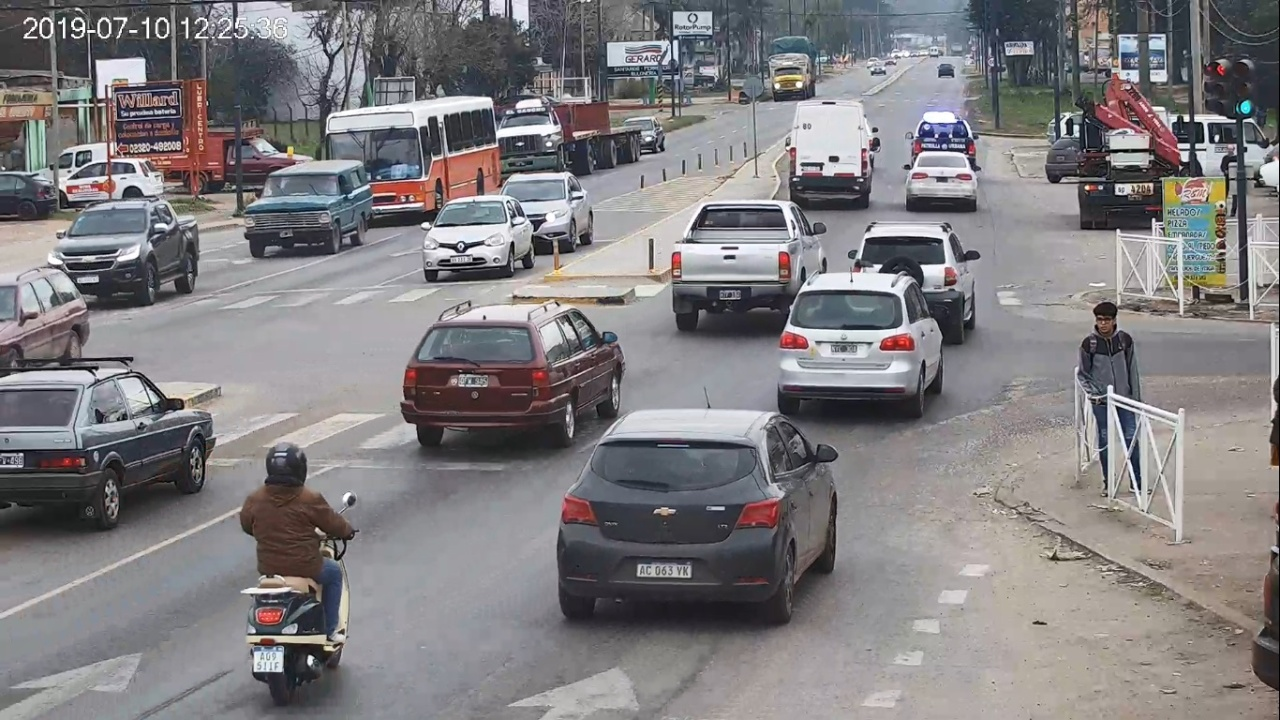car: (557, 410, 838, 626), (2, 358, 216, 532), (401, 303, 625, 445), (777, 270, 943, 416), (674, 200, 827, 330), (902, 151, 982, 211)
motorcycle: (241, 442, 359, 705)
traffic light: (1233, 58, 1256, 117)
